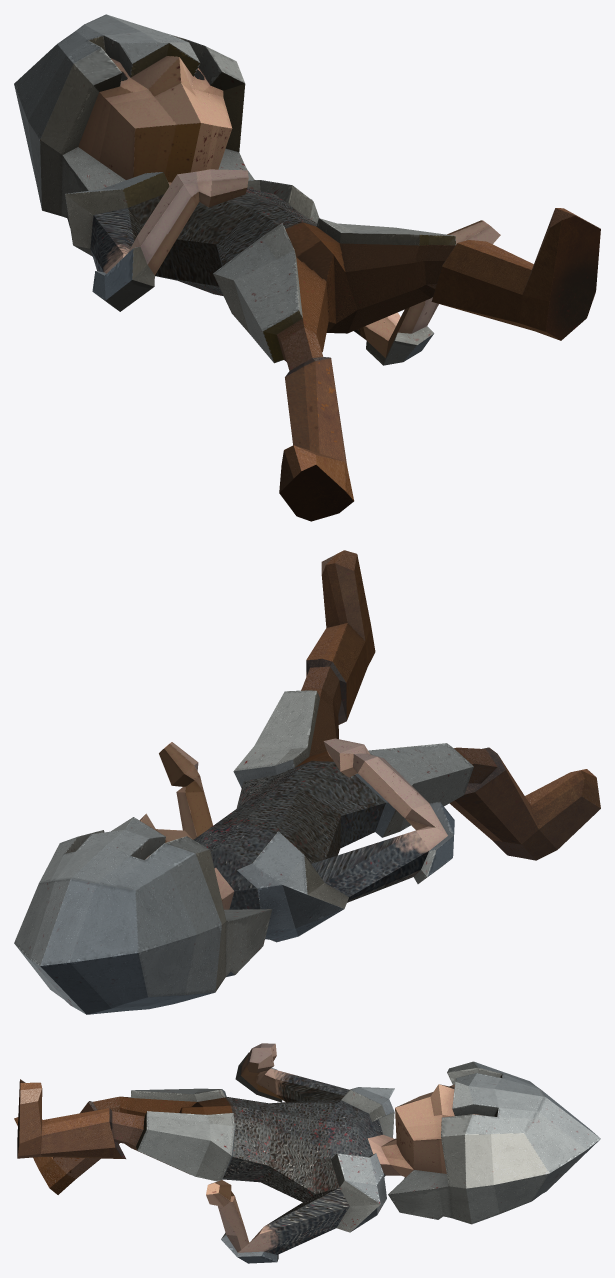
Rendered from Walk_Soldier_19.obj.
3 renders of one model, top to bottom at view 1: azimuth 30°, elevation 25°; view 2: azimuth 150°, elevation 25°; view 3: azimuth 270°, elevation 25°, orthographic. The views are drawn at different scales.
Parts seen in each view (by area): view 1: Soldado_LowPolySTD; view 2: Soldado_LowPolySTD; view 3: Soldado_LowPolySTD.
Boxes of the visible parts, x1,y1,x2,y2 form: Soldado_LowPolySTD: (14,14,600,521); Soldado_LowPolySTD: (14,550,600,1014); Soldado_LowPolySTD: (14,1043,600,1263).
Bounding box in the file's own units: 0.7632 × 0.5507 × 1.59.
